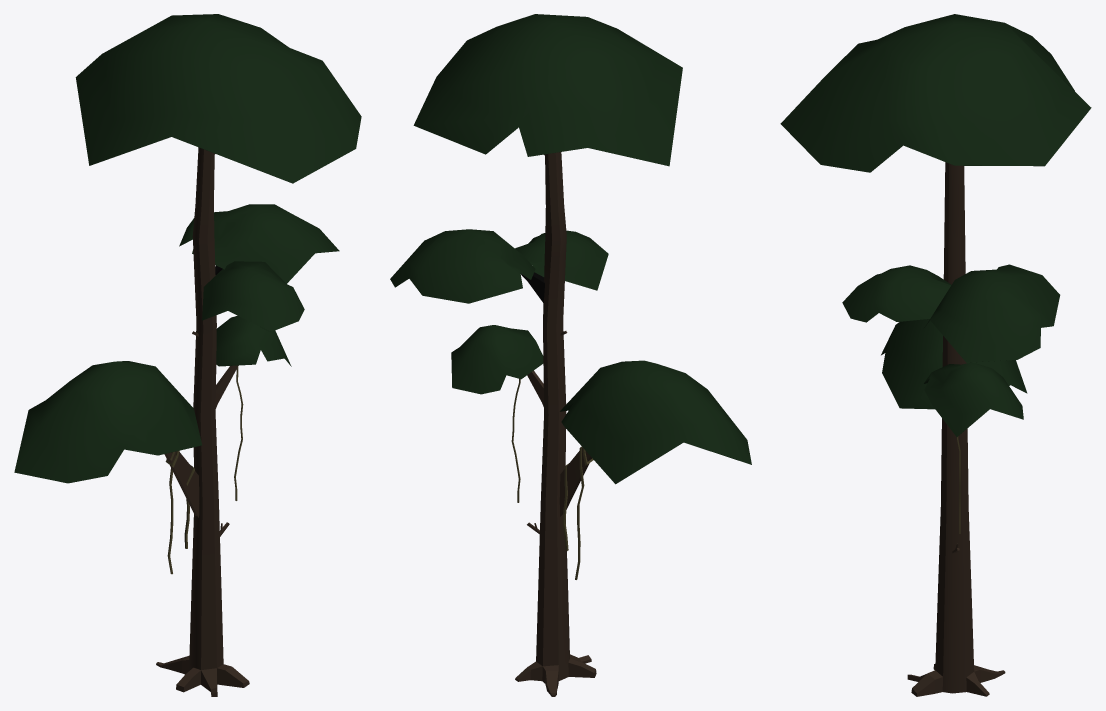
The model's file is M_Arbre_01.FBX.
3 views of the same model, side by side, from view 1: azimuth 30°, elevation 25°; view 2: azimuth 150°, elevation 25°; view 3: azimuth 270°, elevation 25° (orthographic).
Visible parts, largest first — view 1: M_Feuilles_01, M_Tronc_01, M_Lianes_01; view 2: M_Feuilles_01, M_Tronc_01, M_Lianes_01; view 3: M_Feuilles_01, M_Tronc_01.
Boxes of the visible parts, x1=… form: M_Feuilles_01: x1=14, y1=14, x2=361, y2=483; M_Tronc_01: x1=156, y1=147, x2=249, y2=696; M_Lianes_01: x1=165, y1=366, x2=243, y2=574; M_Feuilles_01: x1=390, y1=14, x2=751, y2=484; M_Tronc_01: x1=515, y1=152, x2=596, y2=696; M_Lianes_01: x1=511, y1=379, x2=593, y2=579; M_Feuilles_01: x1=780, y1=14, x2=1091, y2=436; M_Tronc_01: x1=907, y1=162, x2=1005, y2=696.
Bounding box in the file's own units: 40.06 × 74.91 × 31.9.
